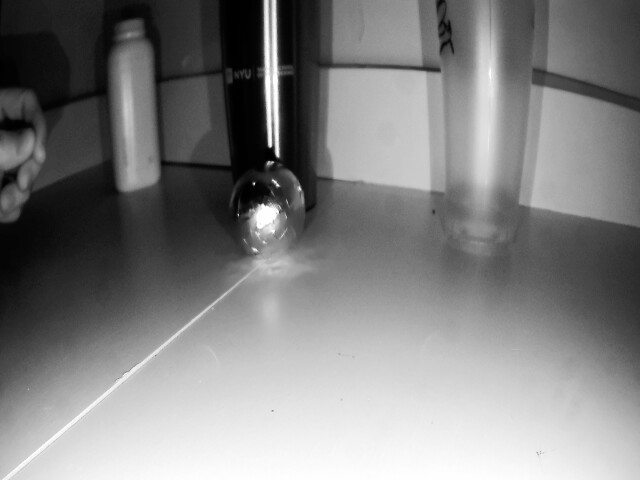silver: (228, 165, 312, 256)
